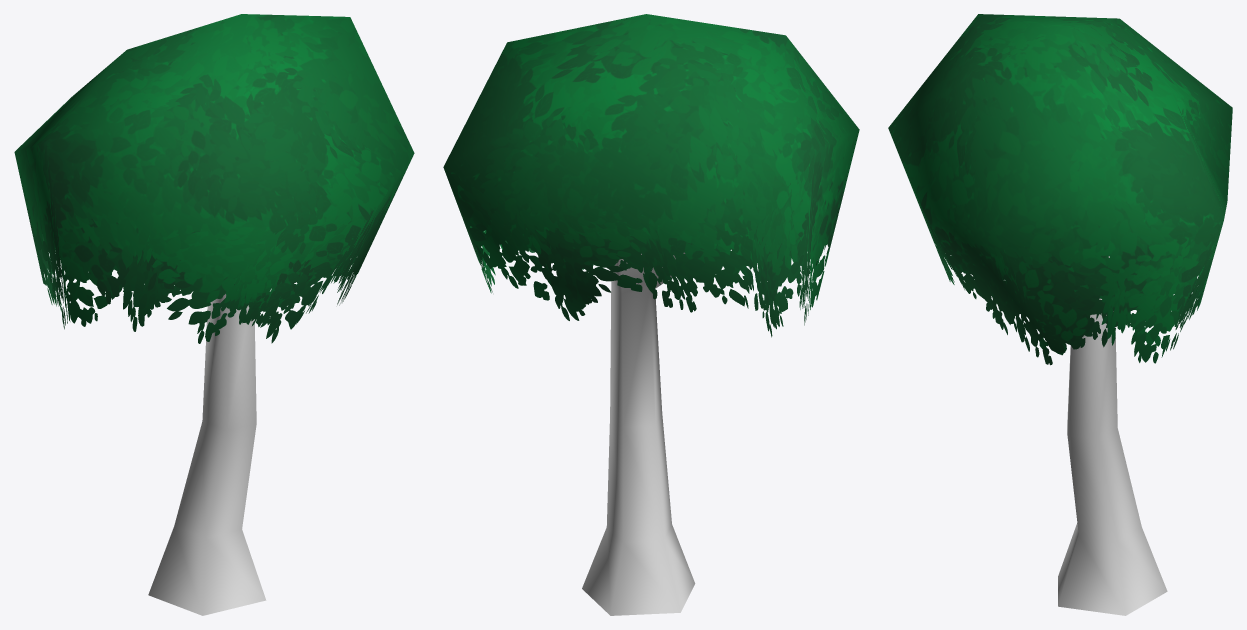
File: Pohon 3_1.fbx
3 views of the same model, side by side, from view 1: azimuth 30°, elevation 25°; view 2: azimuth 150°, elevation 25°; view 3: azimuth 270°, elevation 25° (orthographic). The views are drawn at different scales.
Visible parts, largest first — view 1: Cylinder.002; view 2: Cylinder.002; view 3: Cylinder.002.
Part boxes in pixels (x1,y1,x2,y2): Cylinder.002: (14,14,414,615); Cylinder.002: (443,14,859,615); Cylinder.002: (888,14,1232,615).
Size of the model in its own units: 218 by 352 by 193.
